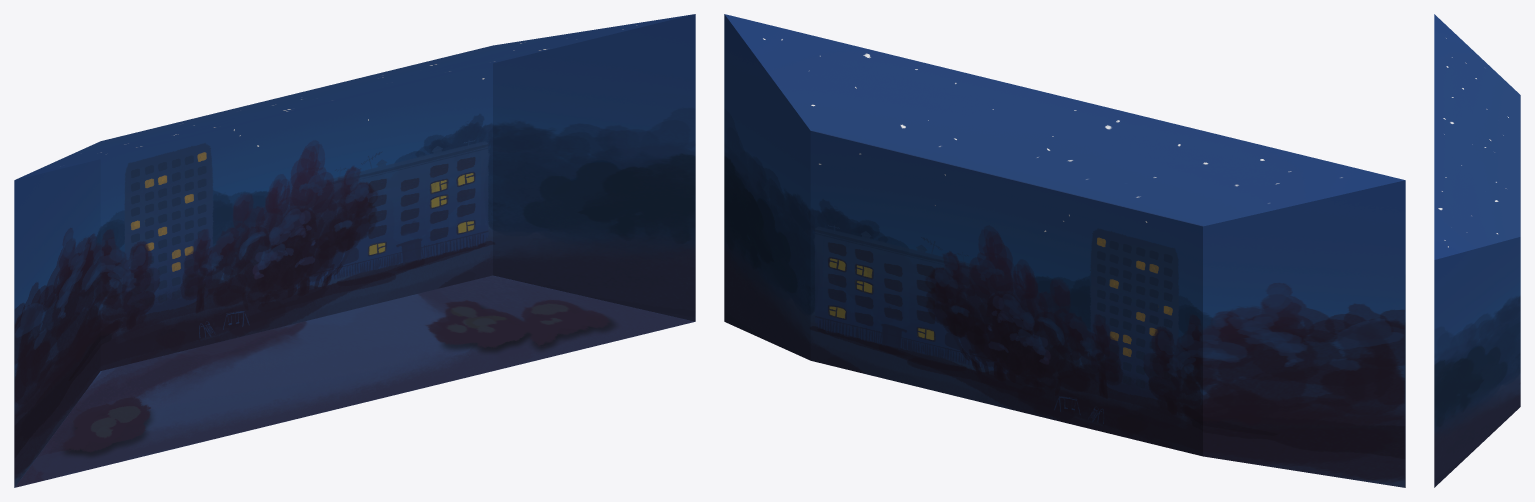
File: landscape.fbx
3 renders of one model, left to right at view 1: azimuth 30°, elevation 25°; view 2: azimuth 150°, elevation 25°; view 3: azimuth 270°, elevation 25°, orthographic. The views are drawn at different scales.
Parts seen in each view (by area): view 1: landscape; view 2: landscape; view 3: landscape.
Part boxes in pixels (left/top/right/bottom): landscape: left=14, top=14, right=695, bottom=487; landscape: left=724, top=14, right=1405, bottom=487; landscape: left=1434, top=14, right=1520, bottom=487.
Bounding box in the file's own units: 32.06 × 13.84 × 4.75.
1 material, 1 textured.
